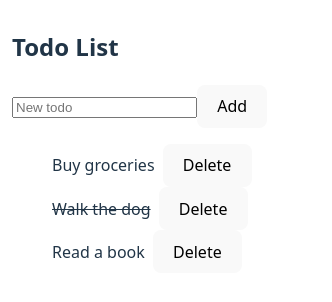
TodoList component › can add a new todo
Type "Test new todo" into the field with placeholder "New todo".
click(104, 108); type("Test new todo")  # box [12, 97, 197, 118]
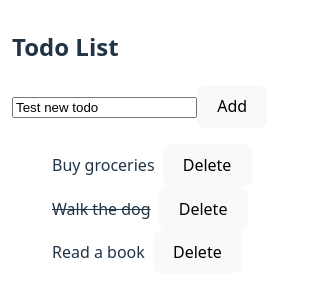
Click the button "Add".
click(232, 106)  # box [197, 84, 267, 128]
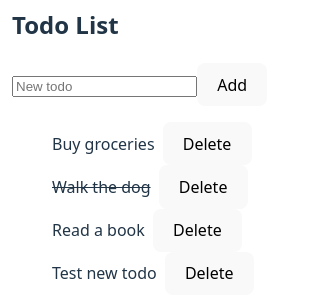
Result: the text "Test new todo" is shown at [52, 261, 157, 285]
